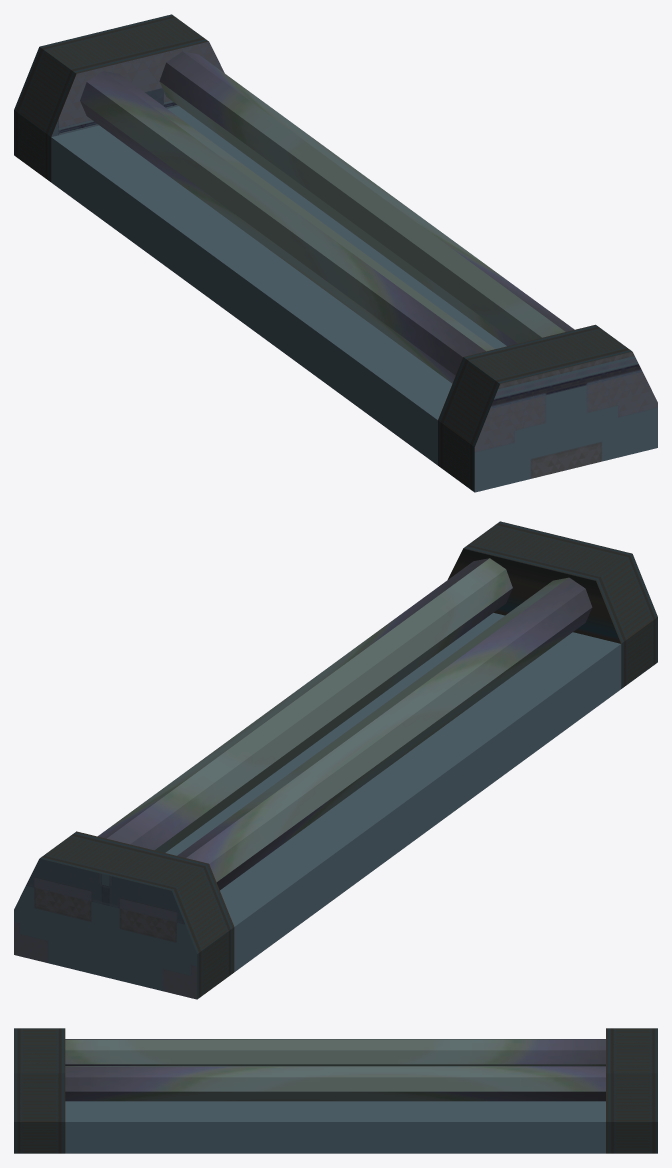
Rendered from mdlCeilingLight.fbx.
3 renders of one model, top to bottom at view 1: azimuth 30°, elevation 25°; view 2: azimuth 150°, elevation 25°; view 3: azimuth 270°, elevation 25°, orthographic. The views are drawn at different scales.
Visible parts, largest first — view 1: CeilingLight; view 2: CeilingLight; view 3: CeilingLight.
Boxes of the visible parts, x1,y1,x2,y2 form: CeilingLight: (14, 14, 657, 492); CeilingLight: (14, 521, 657, 999); CeilingLight: (14, 1028, 657, 1153).
Size of the model in its own units: 0.9254 by 0.4947 by 4.03.
1 material, 1 textured.
